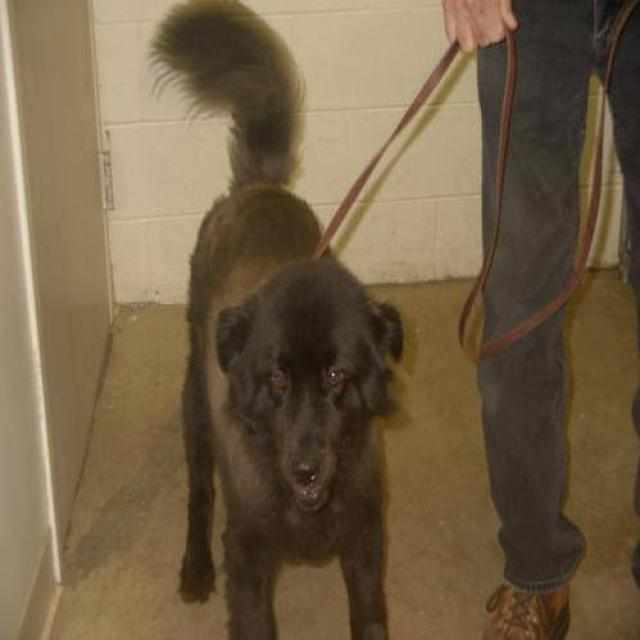dog: (146, 0, 409, 638)
